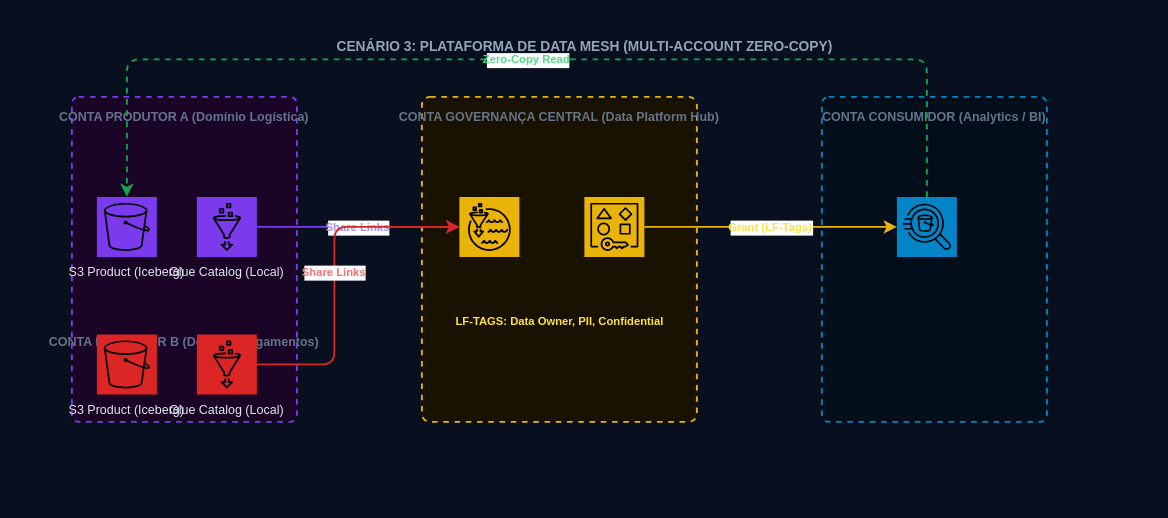
This 1168x518 diagram has some shape labels left out. The shapes that lost their labels are listed below. From the top down, each one's centre as x and y in pixels, then its label:
(x=489, y=226): Lake Formation (Global Catalog)
(x=614, y=226): AWS RAM (Resource Access)
(x=926, y=226): Athena (Data API)
